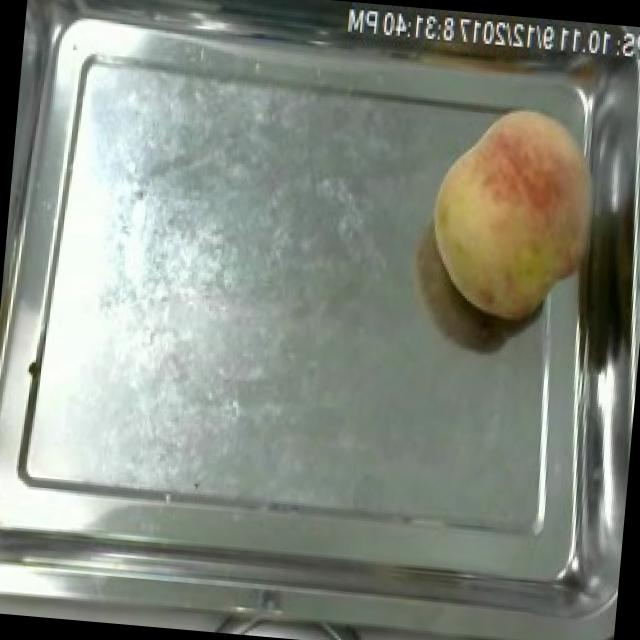Fruit: (417, 91, 616, 334)
